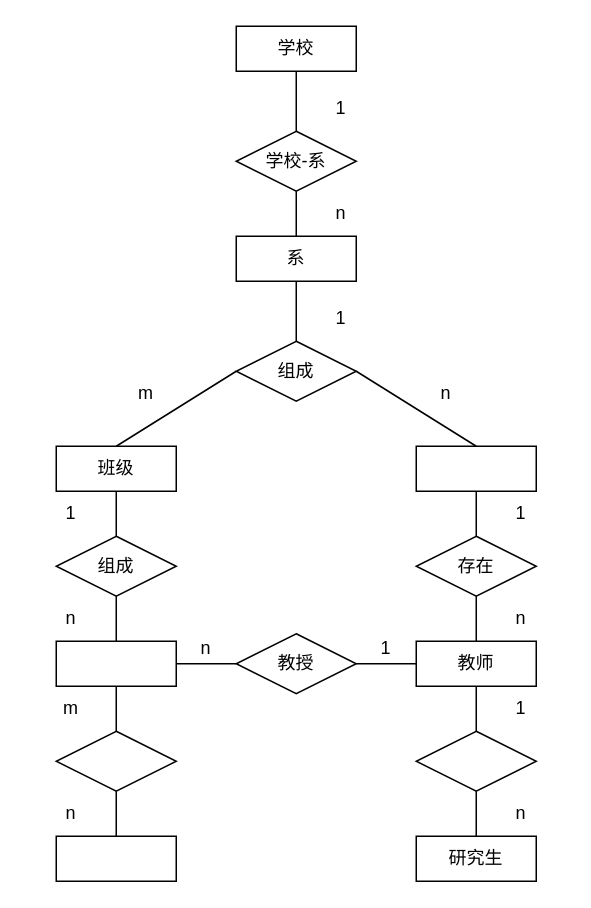
Some shapes in this 591 by 908 pixel diagram are drawn without their labels. Here are the shapes that lost their labels. From the top down, the centre of each, then its label:
the point at 475,468: 教研室
the point at 115,663: 学生
the point at 115,760: 选修
the point at 475,760: 指导
the point at 115,858: 课程
